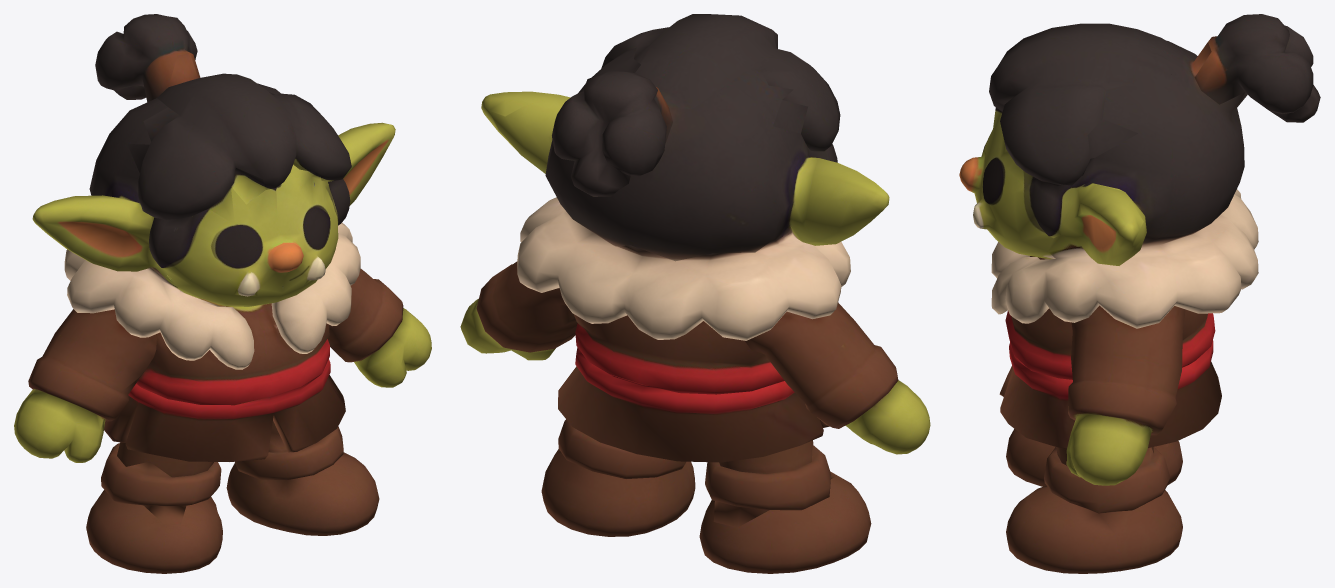
File: orc_common_tripo_segmented_packuv.glb
The picture shows the model from 3 angles, left to right: view 1: azimuth 30°, elevation 25°; view 2: azimuth 150°, elevation 25°; view 3: azimuth 270°, elevation 25°; orthographic projection. The views are drawn at different scales.
Parts seen in each view (by area): view 1: tripo_part_0, tripo_part_5, tripo_part_1, tripo_part_2, tripo_part_4, tripo_part_13, tripo_part_7, tripo_part_6, tripo_part_8, tripo_part_3, tripo_part_9, tripo_part_10 (+3 smaller); view 2: tripo_part_0, tripo_part_1, tripo_part_4, tripo_part_2, tripo_part_5, tripo_part_3, tripo_part_13, tripo_part_6, tripo_part_7, tripo_part_8, tripo_part_9, tripo_part_10 (+3 smaller); view 3: tripo_part_0, tripo_part_1, tripo_part_5, tripo_part_8, tripo_part_7, tripo_part_3, tripo_part_4, tripo_part_13, tripo_part_10, tripo_part_6, tripo_part_15.
Part boxes in pixels (x1,y1,x2,y2): tripo_part_0: [32, 83, 395, 306]; tripo_part_5: [138, 53, 351, 219]; tripo_part_1: [64, 222, 360, 369]; tripo_part_2: [14, 309, 157, 462]; tripo_part_4: [104, 359, 345, 461]; tripo_part_13: [136, 298, 329, 405]; tripo_part_7: [226, 452, 379, 535]; tripo_part_6: [86, 490, 222, 573]; tripo_part_8: [327, 269, 431, 387]; tripo_part_3: [95, 14, 200, 102]; tripo_part_9: [101, 443, 221, 524]; tripo_part_10: [235, 426, 343, 479]; tripo_part_0: [481, 47, 889, 261]; tripo_part_1: [517, 197, 850, 340]; tripo_part_4: [558, 347, 829, 462]; tripo_part_2: [745, 302, 930, 454]; tripo_part_5: [601, 14, 840, 151]; tripo_part_3: [552, 71, 672, 196]; tripo_part_13: [573, 314, 784, 394]; tripo_part_6: [699, 476, 871, 573]; tripo_part_7: [541, 449, 695, 536]; tripo_part_8: [460, 261, 577, 360]; tripo_part_9: [705, 440, 837, 527]; tripo_part_10: [558, 419, 685, 478]; tripo_part_0: [959, 40, 1244, 265]; tripo_part_1: [991, 189, 1258, 328]; tripo_part_5: [989, 23, 1211, 185]; tripo_part_8: [1066, 305, 1185, 485]; tripo_part_7: [1006, 485, 1182, 573]; tripo_part_3: [1194, 14, 1320, 122]; tripo_part_4: [999, 340, 1221, 449]; tripo_part_13: [1005, 256, 1215, 379]; tripo_part_10: [1044, 447, 1170, 512]; tripo_part_6: [1006, 429, 1182, 486]; tripo_part_15: [1087, 119, 1137, 158].
Bounding box in the file's own units: 0.9478 × 0.9995 × 0.6733.
Materials: 1 (1 with a texture image).
